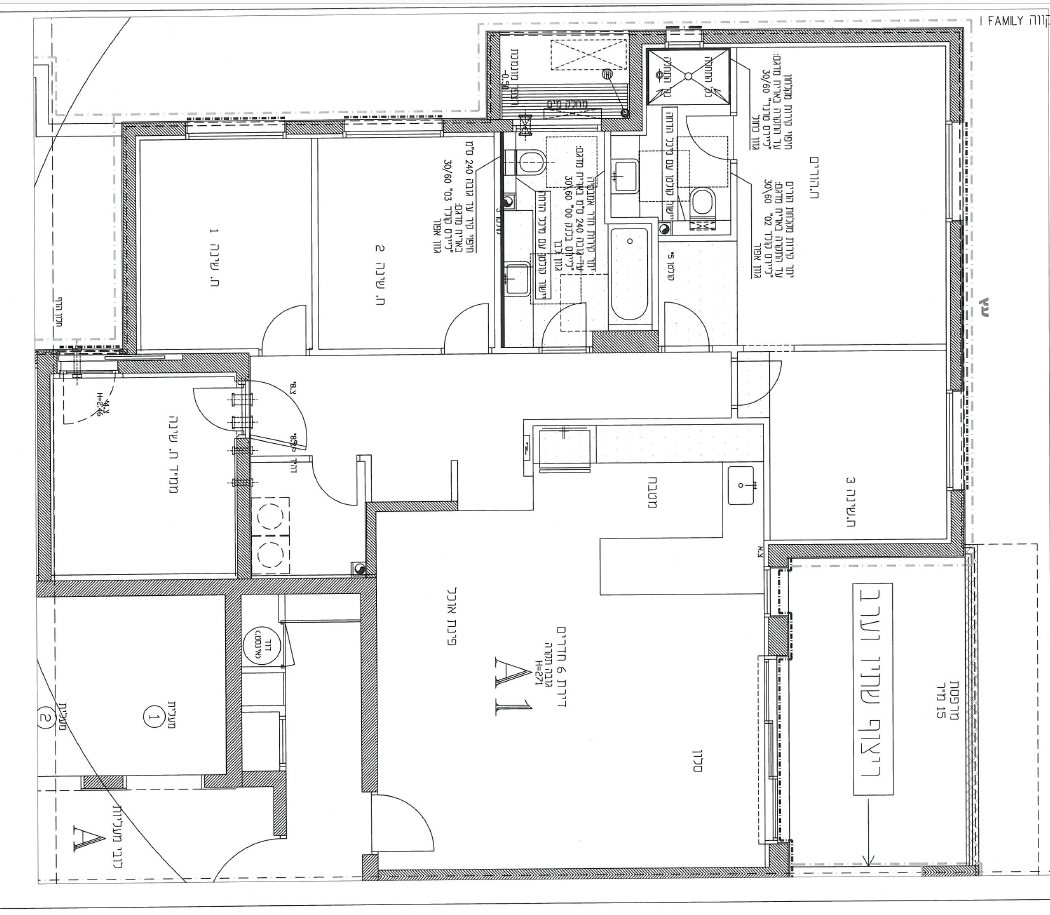door: (381, 785, 440, 858), (738, 355, 792, 408), (186, 382, 234, 432), (255, 303, 309, 347), (437, 301, 491, 345), (661, 299, 715, 343), (309, 462, 360, 507)
wall: (36, 348, 53, 595), (51, 580, 374, 593), (360, 595, 376, 790), (225, 595, 241, 787), (766, 544, 959, 557)
window: (764, 654, 789, 841), (941, 120, 965, 221), (942, 389, 966, 490), (185, 121, 286, 139), (343, 119, 444, 137)
